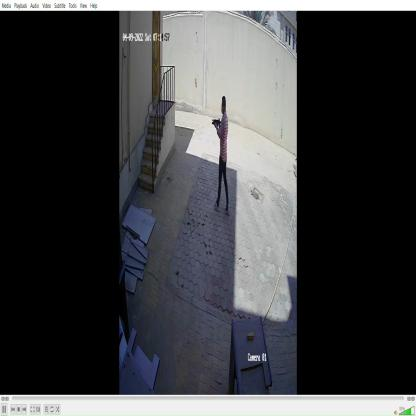handgun: (209, 113, 225, 136)
